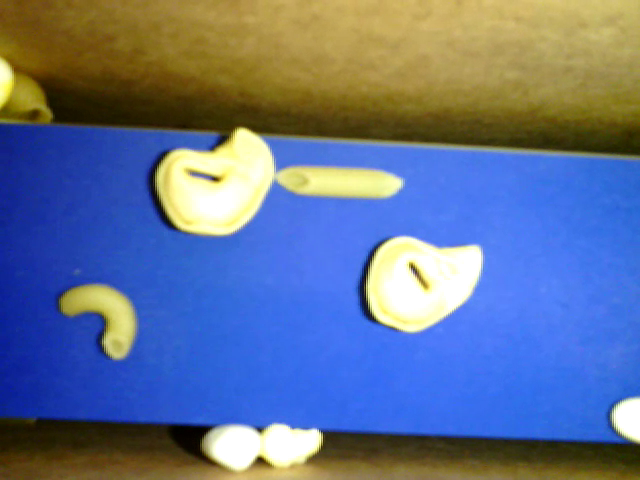elbow: (55, 283, 136, 360)
penne: (275, 163, 403, 198)
shell: (1, 69, 54, 125)
tortellini: (149, 124, 276, 236), (365, 234, 483, 332)
